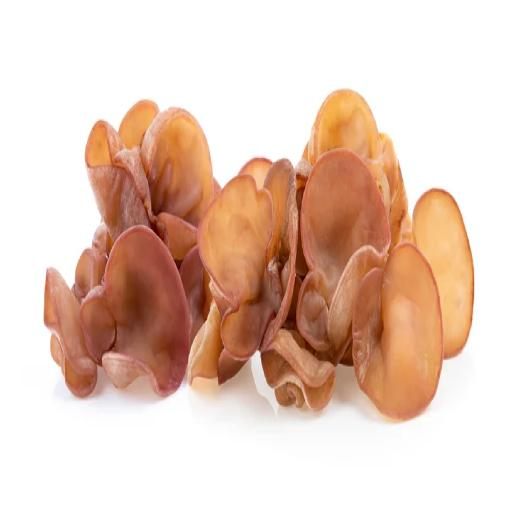Wood Ear Mushroom: (40, 77, 478, 426)
